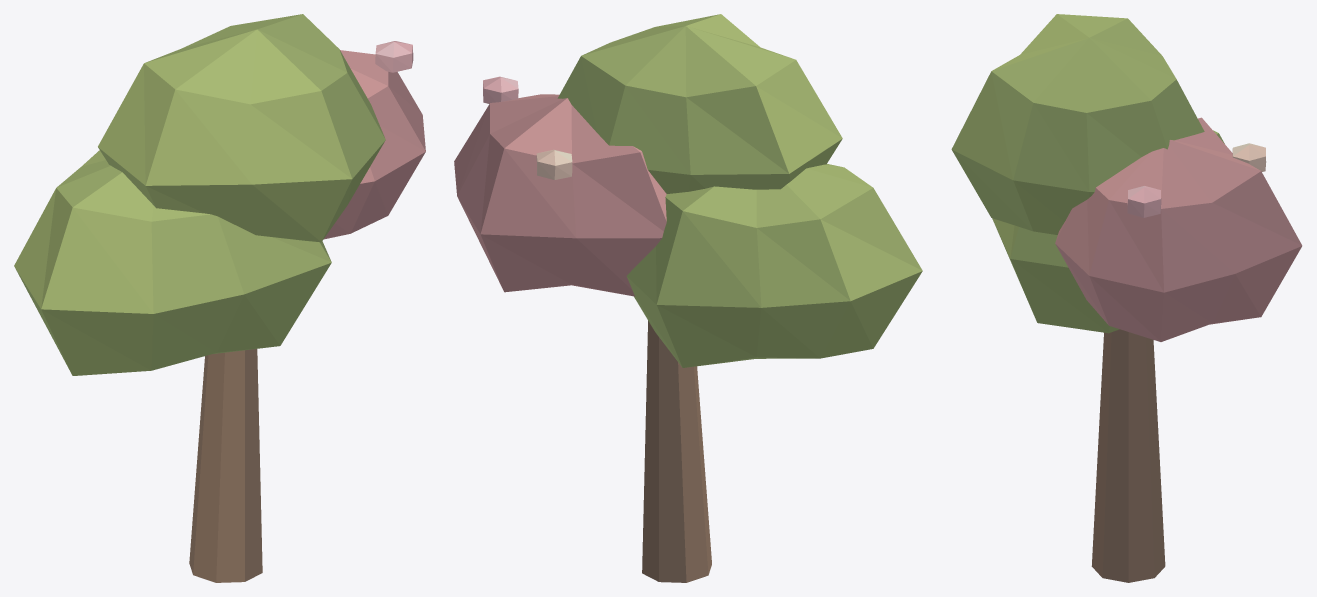
The model's file is forage_7_spring.glb.
3 renders of one model, left to right at view 1: azimuth 30°, elevation 25°; view 2: azimuth 150°, elevation 25°; view 3: azimuth 270°, elevation 25°, orthographic. The views are drawn at different scales.
Parts seen in each view (by area): view 1: Rohstoff 7 · spring; view 2: Rohstoff 7 · spring; view 3: Rohstoff 7 · spring.
Boxes of the visible parts, x1,y1,x2,y2 form: Rohstoff 7 · spring: (14,14,425,582); Rohstoff 7 · spring: (454,14,922,582); Rohstoff 7 · spring: (951,14,1302,582).
Bounding box in the file's own units: 2.75 × 3.32 × 1.97.
